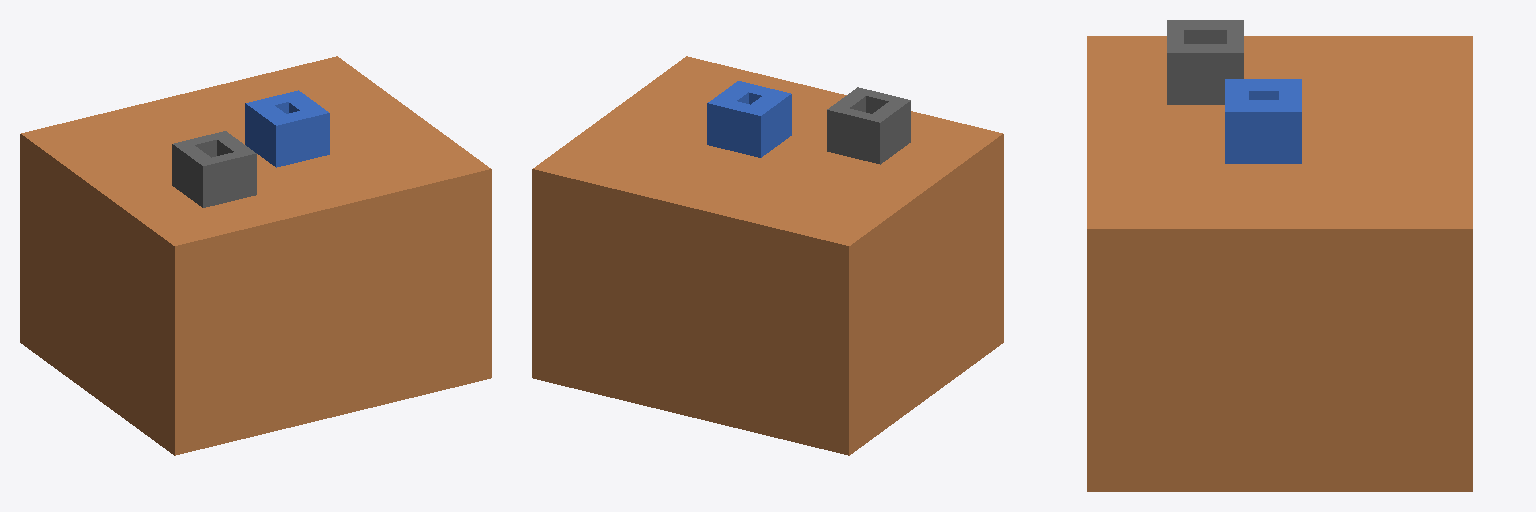
URDF robot description (peg_in_hole_fixtured_scene_0037_peg0007_tol04):
<?xml version="1.0"?>
<robot name="peg_in_hole_fixtured_scene_0037_peg0007_tol04">
  <material name="wood"><color rgba="0.82 0.56 0.35 1.0"/></material>
  <material name="start_fix"><color rgba="0.30 0.50 0.85 1.0"/></material>
  <material name="goal_fix"><color rgba="0.4706 0.4706 0.4706 1.0"/></material>
  <link name="box">
    <visual>
      <origin xyz="0.000000 0.000000 0.000000" rpy="0 0 0"/>
      <geometry><box size="0.475000 0.400000 0.300000"/></geometry>
      <material name="wood"/>
    </visual>
    <collision>
      <origin xyz="0.000000 0.000000 0.000000" rpy="0 0 0"/>
      <geometry><box size="0.475000 0.400000 0.300000"/></geometry>
    </collision>
    <visual>
      <origin xyz="0.037421 -0.017049 0.155000" rpy="0 0 0"/>
      <geometry><box size="0.080000 0.080000 0.010000"/></geometry>
      <material name="start_fix"/>
    </visual>
    <collision>
      <origin xyz="0.037421 -0.017049 0.155000" rpy="0 0 0"/>
      <geometry><box size="0.080000 0.080000 0.010000"/></geometry>
    </collision>
    <visual>
      <origin xyz="0.062671 -0.017049 0.185000" rpy="0 0 0"/>
      <geometry><box size="0.029500 0.080000 0.050000"/></geometry>
      <material name="start_fix"/>
    </visual>
    <collision>
      <origin xyz="0.062671 -0.017049 0.185000" rpy="0 0 0"/>
      <geometry><box size="0.029500 0.080000 0.050000"/></geometry>
    </collision>
    <visual>
      <origin xyz="0.012171 -0.017049 0.185000" rpy="0 0 0"/>
      <geometry><box size="0.029500 0.080000 0.050000"/></geometry>
      <material name="start_fix"/>
    </visual>
    <collision>
      <origin xyz="0.012171 -0.017049 0.185000" rpy="0 0 0"/>
      <geometry><box size="0.029500 0.080000 0.050000"/></geometry>
    </collision>
    <visual>
      <origin xyz="0.037421 0.010701 0.185000" rpy="0 0 0"/>
      <geometry><box size="0.021000 0.024500 0.050000"/></geometry>
      <material name="start_fix"/>
    </visual>
    <collision>
      <origin xyz="0.037421 0.010701 0.185000" rpy="0 0 0"/>
      <geometry><box size="0.021000 0.024500 0.050000"/></geometry>
    </collision>
    <visual>
      <origin xyz="0.037421 -0.044799 0.185000" rpy="0 0 0"/>
      <geometry><box size="0.021000 0.024500 0.050000"/></geometry>
      <material name="start_fix"/>
    </visual>
    <collision>
      <origin xyz="0.037421 -0.044799 0.185000" rpy="0 0 0"/>
      <geometry><box size="0.021000 0.024500 0.050000"/></geometry>
    </collision>
    <visual>
      <origin xyz="-0.106984 -0.077379 0.155000" rpy="0 0 0"/>
      <geometry><box size="0.080000 0.080000 0.010000"/></geometry>
      <material name="goal_fix"/>
    </visual>
    <collision>
      <origin xyz="-0.106984 -0.077379 0.155000" rpy="0 0 0"/>
      <geometry><box size="0.080000 0.080000 0.010000"/></geometry>
    </collision>
    <visual>
      <origin xyz="-0.078404 -0.077379 0.185000" rpy="0 0 0"/>
      <geometry><box size="0.022841 0.080000 0.050000"/></geometry>
      <material name="goal_fix"/>
    </visual>
    <collision>
      <origin xyz="-0.078404 -0.077379 0.185000" rpy="0 0 0"/>
      <geometry><box size="0.022841 0.080000 0.050000"/></geometry>
    </collision>
    <visual>
      <origin xyz="-0.135563 -0.077379 0.185000" rpy="0 0 0"/>
      <geometry><box size="0.022841 0.080000 0.050000"/></geometry>
      <material name="goal_fix"/>
    </visual>
    <collision>
      <origin xyz="-0.135563 -0.077379 0.185000" rpy="0 0 0"/>
      <geometry><box size="0.022841 0.080000 0.050000"/></geometry>
    </collision>
    <visual>
      <origin xyz="-0.106984 -0.046299 0.185000" rpy="0 0 0"/>
      <geometry><box size="0.034318 0.017841 0.050000"/></geometry>
      <material name="goal_fix"/>
    </visual>
    <collision>
      <origin xyz="-0.106984 -0.046299 0.185000" rpy="0 0 0"/>
      <geometry><box size="0.034318 0.017841 0.050000"/></geometry>
    </collision>
    <visual>
      <origin xyz="-0.106984 -0.108458 0.185000" rpy="0 0 0"/>
      <geometry><box size="0.034318 0.017841 0.050000"/></geometry>
      <material name="goal_fix"/>
    </visual>
    <collision>
      <origin xyz="-0.106984 -0.108458 0.185000" rpy="0 0 0"/>
      <geometry><box size="0.034318 0.017841 0.050000"/></geometry>
    </collision>
    <inertial>
      <mass value="500"/>
      <friction value="1.0"/>
      <inertia ixx="1000.0" ixy="0.0" ixz="0.0" iyy="1000.0" iyz="0.0" izz="1000.0"/>
    </inertial>
  </link>
</robot>

--- What the picture shows (computed from the rendered views, not written in the file) ---
3 views of the same robot in one strip: view 1: azimuth 30°, elevation 25°; view 2: azimuth 150°, elevation 25°; view 3: azimuth 270°, elevation 25° (orthographic).
Robot: peg_in_hole_fixtured_scene_0037_peg0007_tol04 — 1 links, 0 joints (none); root link box; default pose: all joints at 0.
Links seen in each view (by area): view 1: box; view 2: box; view 3: box.
Boxes of the visible links, x1,y1,x2,y2 form: box: (20,56,491,455); box: (532,56,1003,455); box: (1087,20,1472,491).
Bounding box of the posed robot: 0.475 × 0.4 × 0.36 m (x, y, z).
Geometry: primitives only (box / cylinder / sphere), no mesh files.
